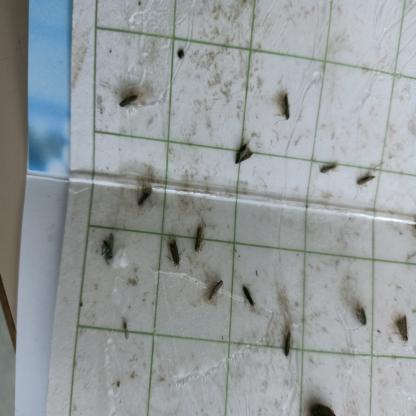prays_oleae: (112, 79, 147, 118), (96, 225, 119, 273), (160, 233, 182, 280), (227, 134, 256, 168), (390, 307, 412, 349), (205, 269, 226, 313), (308, 154, 340, 178), (239, 276, 259, 314), (134, 173, 154, 210), (352, 161, 375, 193), (278, 86, 295, 129), (351, 304, 372, 336), (190, 220, 208, 256), (281, 330, 299, 366)
